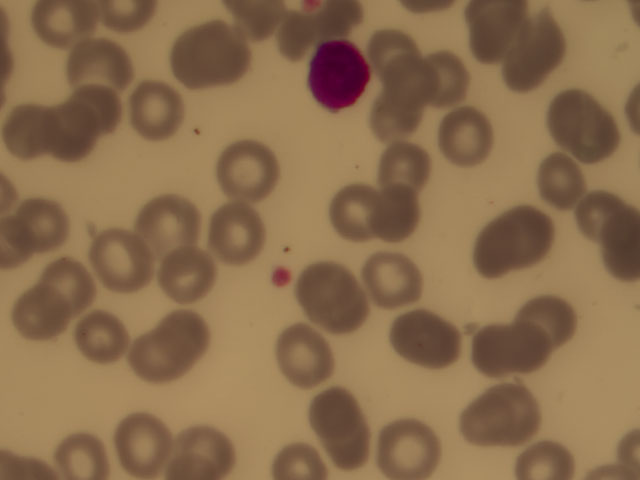Platelets: (267, 264, 295, 289)
RBC: (69, 37, 130, 101), (122, 78, 183, 142), (39, 105, 100, 169), (8, 101, 69, 165), (12, 190, 73, 254), (38, 251, 99, 315), (4, 283, 65, 347), (82, 226, 143, 290), (138, 199, 199, 263), (155, 242, 216, 306), (155, 304, 216, 368), (110, 336, 171, 400), (61, 301, 122, 365), (211, 202, 272, 266), (219, 138, 280, 202), (198, 20, 259, 84), (160, 24, 221, 88), (370, 25, 431, 89), (374, 58, 435, 122), (370, 107, 431, 171), (418, 50, 479, 114), (435, 105, 496, 169), (378, 137, 439, 201), (369, 180, 430, 244), (324, 178, 385, 242), (364, 250, 425, 314), (298, 258, 359, 322), (273, 322, 334, 386), (315, 381, 376, 445), (326, 416, 387, 480), (370, 416, 431, 480), (453, 395, 514, 459), (492, 384, 553, 448), (461, 321, 522, 385), (508, 311, 569, 375), (524, 288, 585, 352), (462, 221, 523, 285), (498, 201, 559, 265), (527, 147, 588, 211), (569, 106, 630, 170), (534, 81, 595, 145), (521, 13, 582, 77), (472, 8, 533, 72), (579, 187, 640, 251), (393, 312, 454, 376), (173, 416, 234, 480), (125, 416, 186, 480), (60, 416, 121, 480), (30, 1, 91, 64), (510, 435, 578, 480)
WBC: (305, 39, 374, 115)
